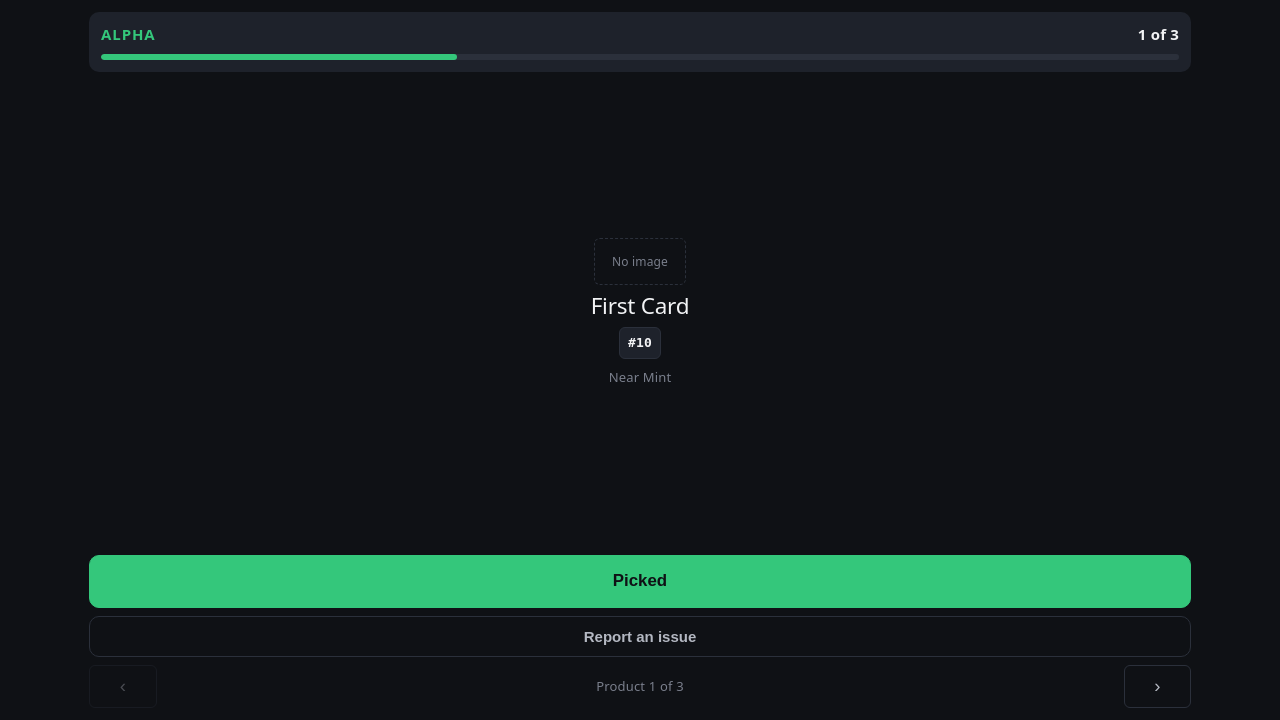
FocusedPickView — moving records nothing › issues no request while moving forward
Click the button named "Next card": (1157, 686) 1124,665 -> 1191,708
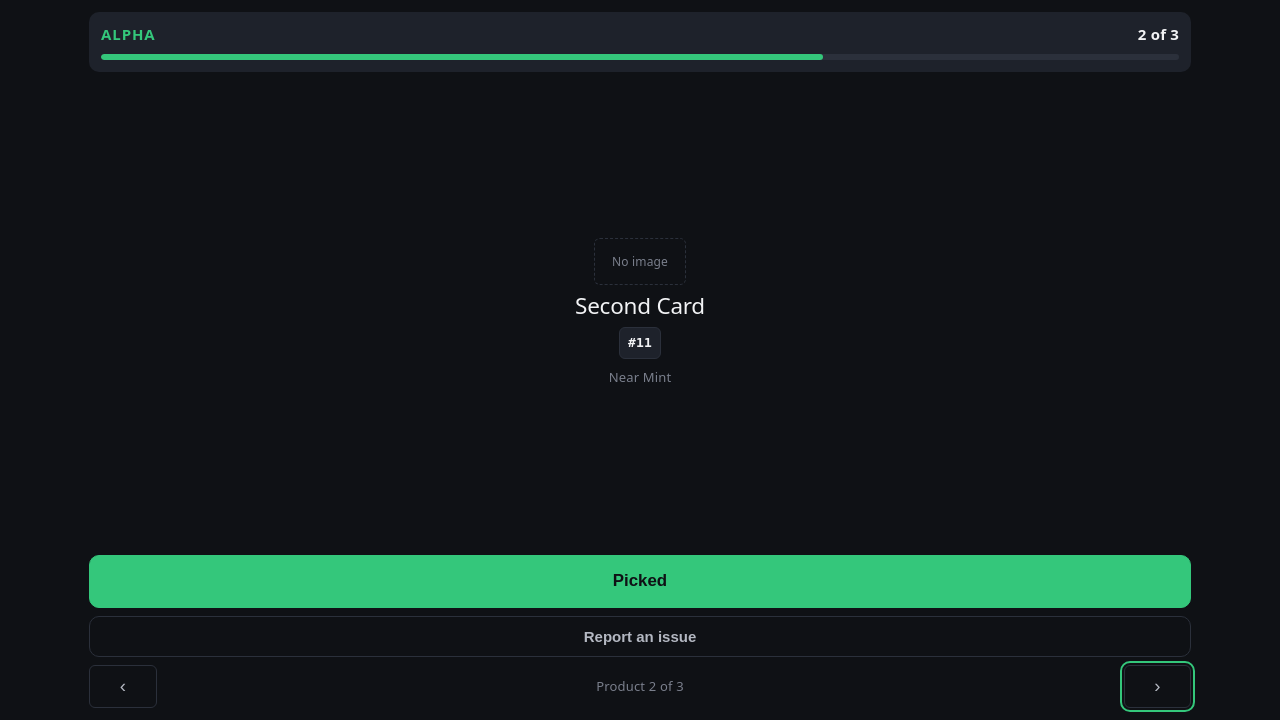
Click the button named "Next card": (1157, 686) 1124,665 -> 1191,708
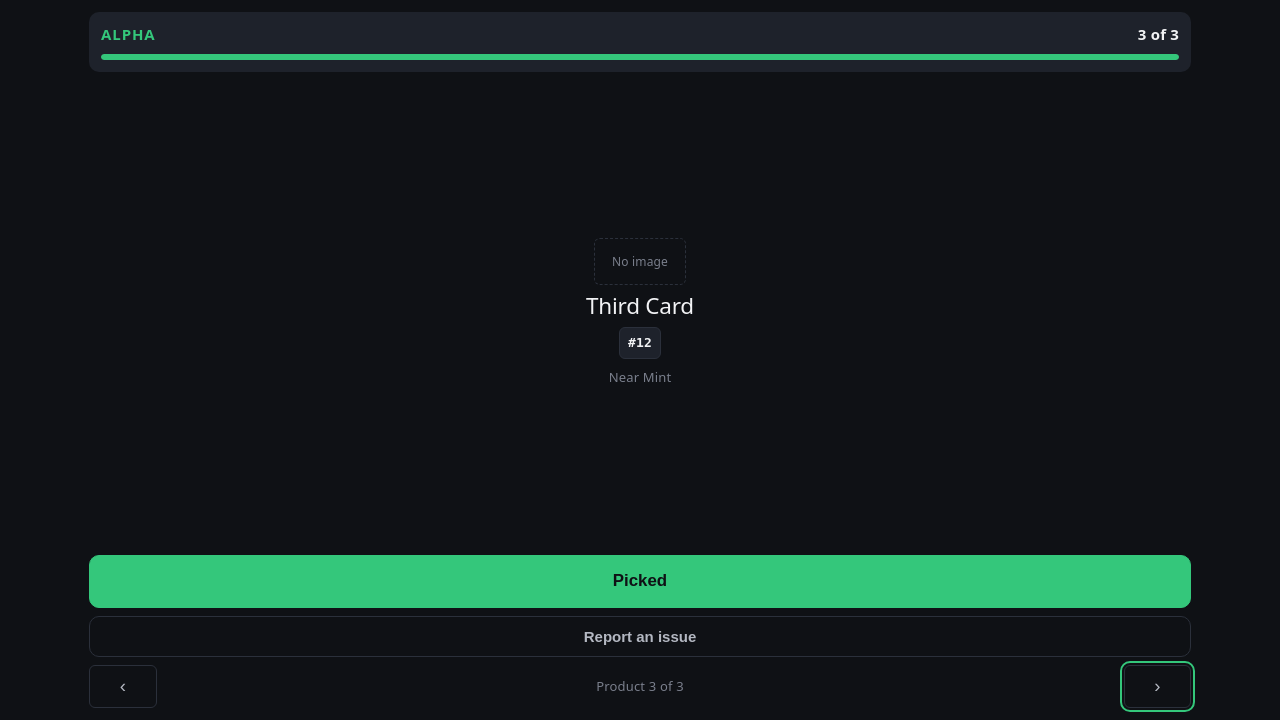
Check: the heading "Third Card" is shown, box 586,293 -> 694,319
